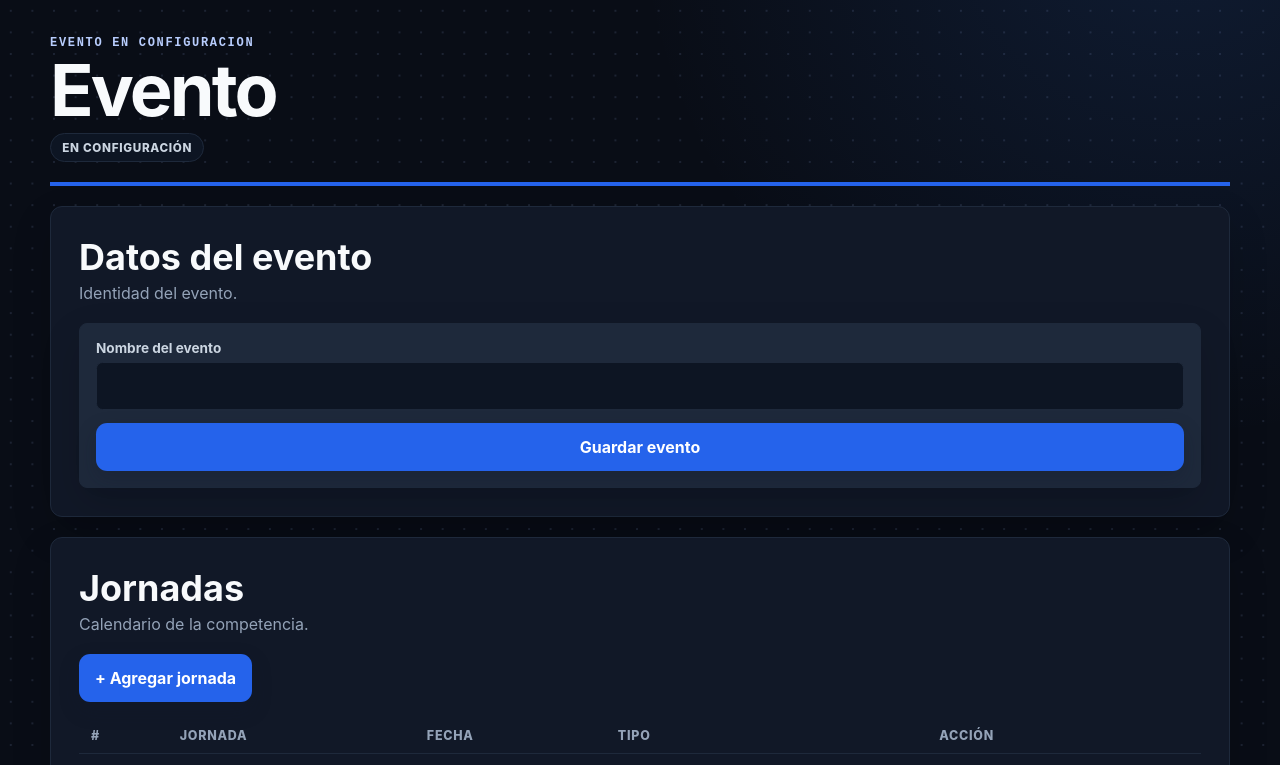
EventConfigurationPage › presenta el orden como Orden de visualización con max+1
Expected: the column heading "#" is shown, [79,718,168,754]
Click the button "+ Agregar jornada": coordinates (166, 678) [79,654,252,702]
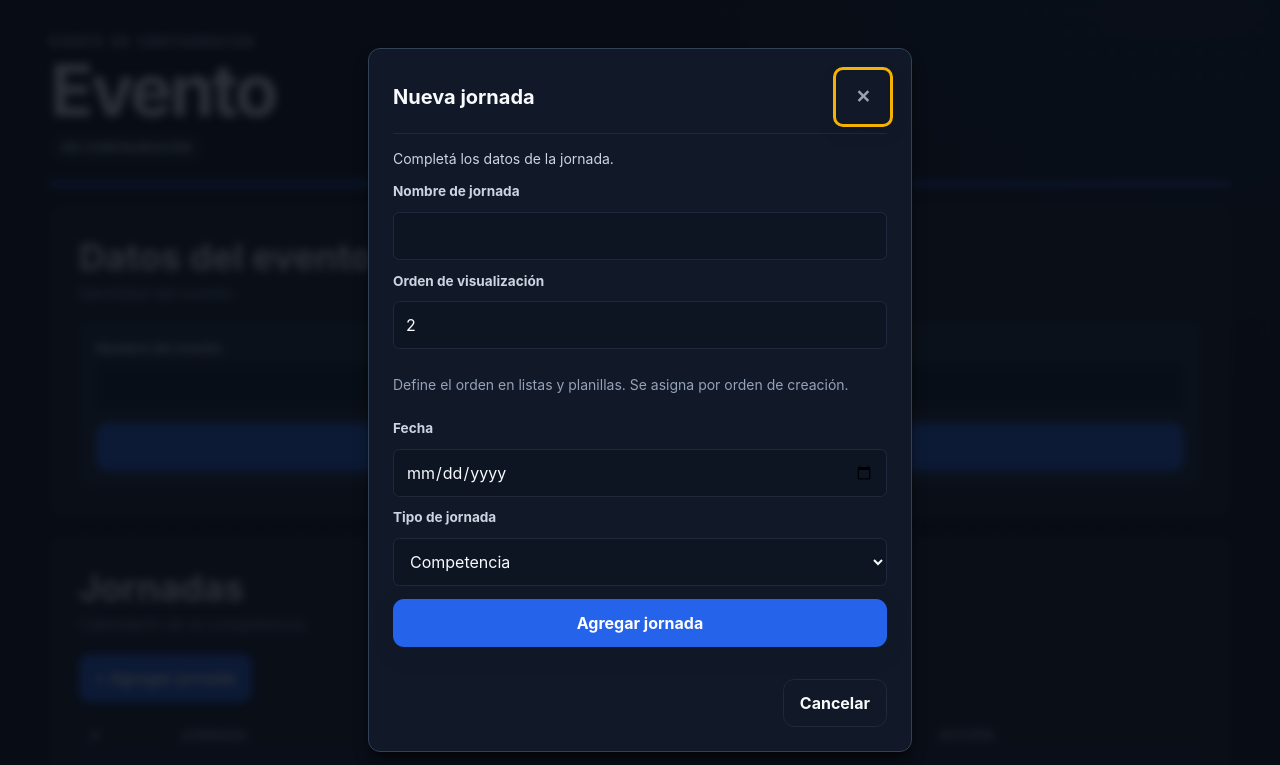
Expected: the number field labelled "Orden de visualización" holds "2", [393,301,887,349]
